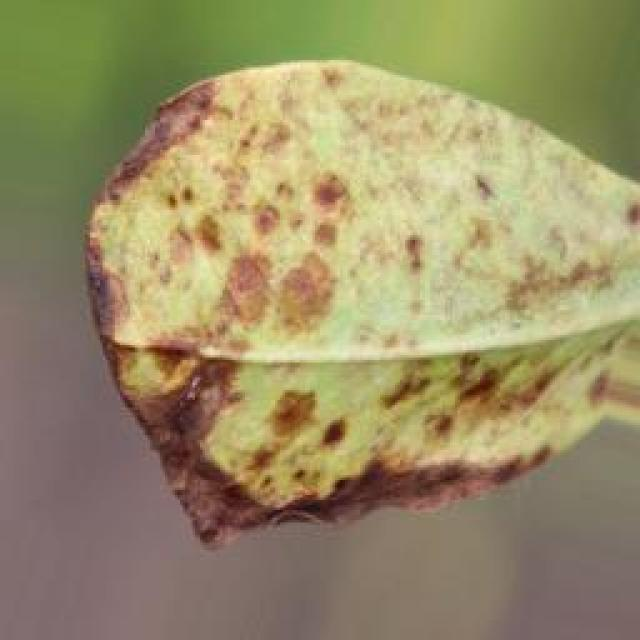Whitefly: (66, 25, 640, 508)
